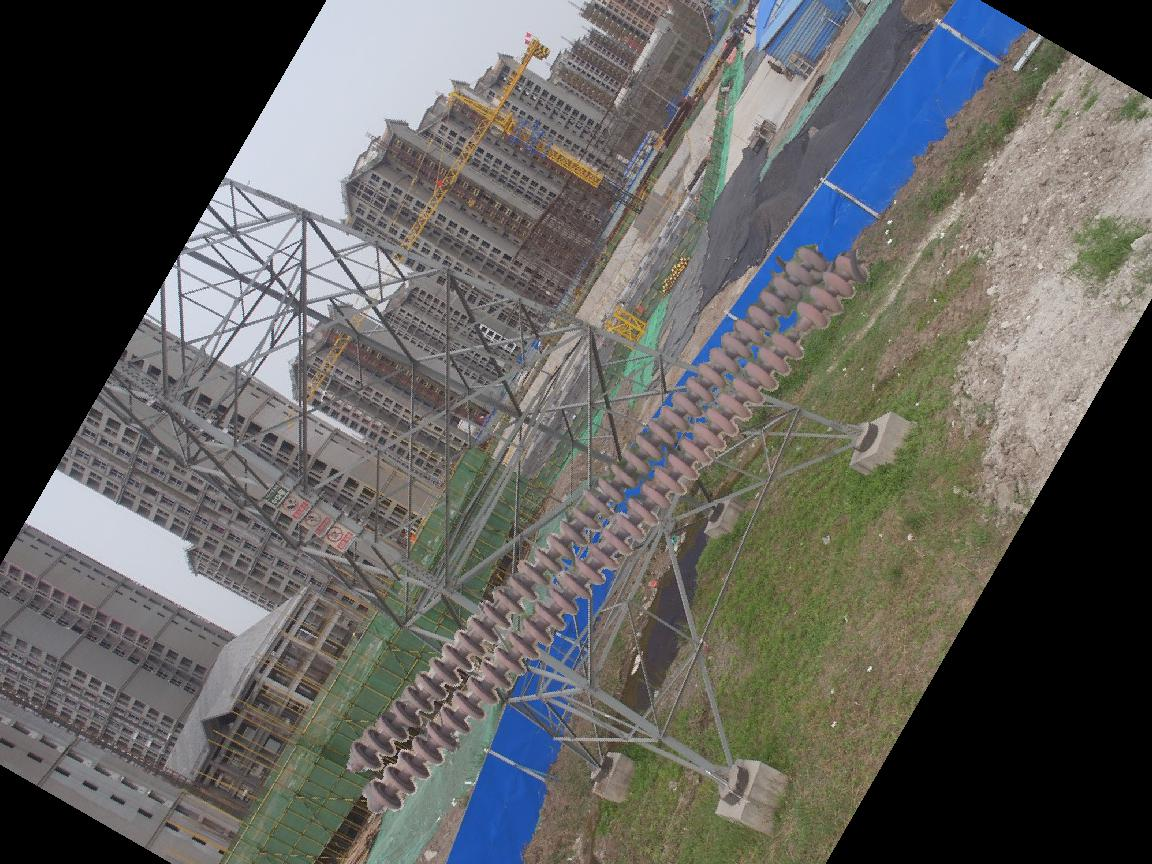insulator: (345, 238, 878, 816)
insulator_stringdrop: (768, 296, 830, 366)
